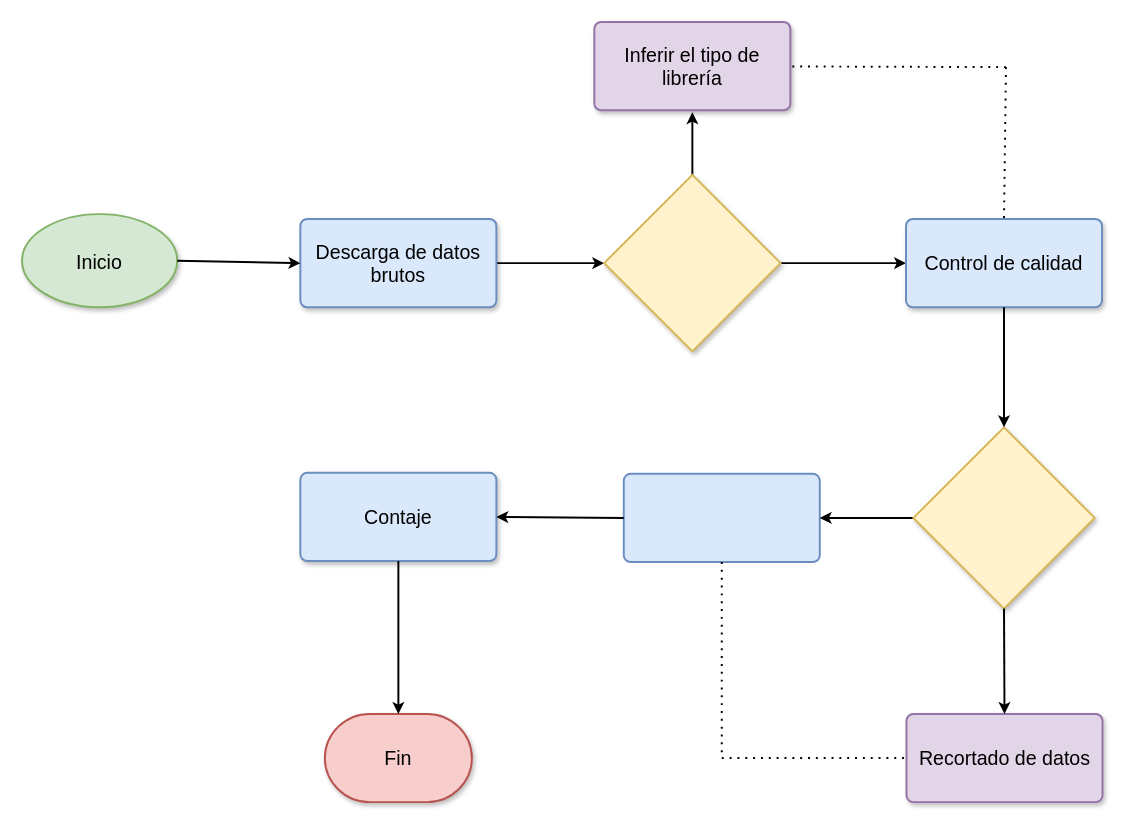
Image size: 1126x826. Some labels were removed from this diagram. Each missing label, with the centre of its shape:
"Alineamiento" goes at pixel 721 517.
"¿La calidad de los datos es buena?" goes at pixel 1004 519.
"¿Se conoce el tipo de librería usada?" goes at pixel 693 264.
